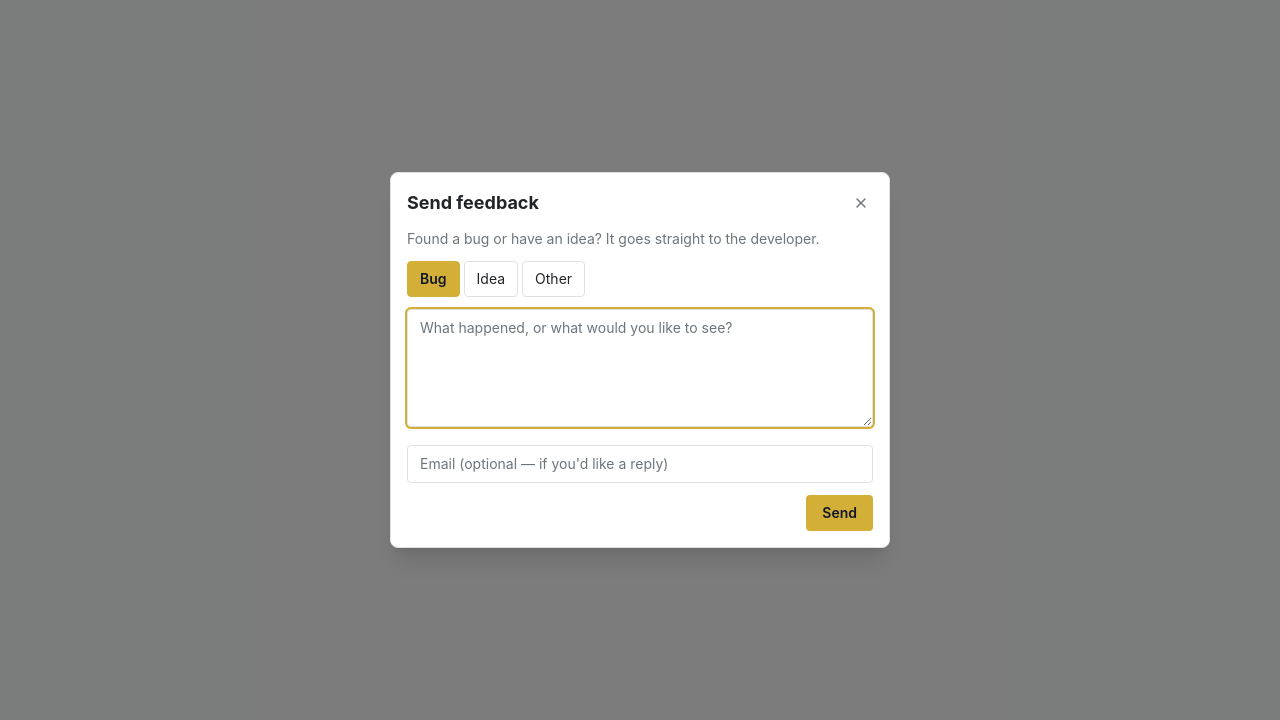
Test case: FeedbackModal › submits the selected type, trimmed message and email, then confirms
Click the button "Idea" at (491, 279), box [464,261,518,297]
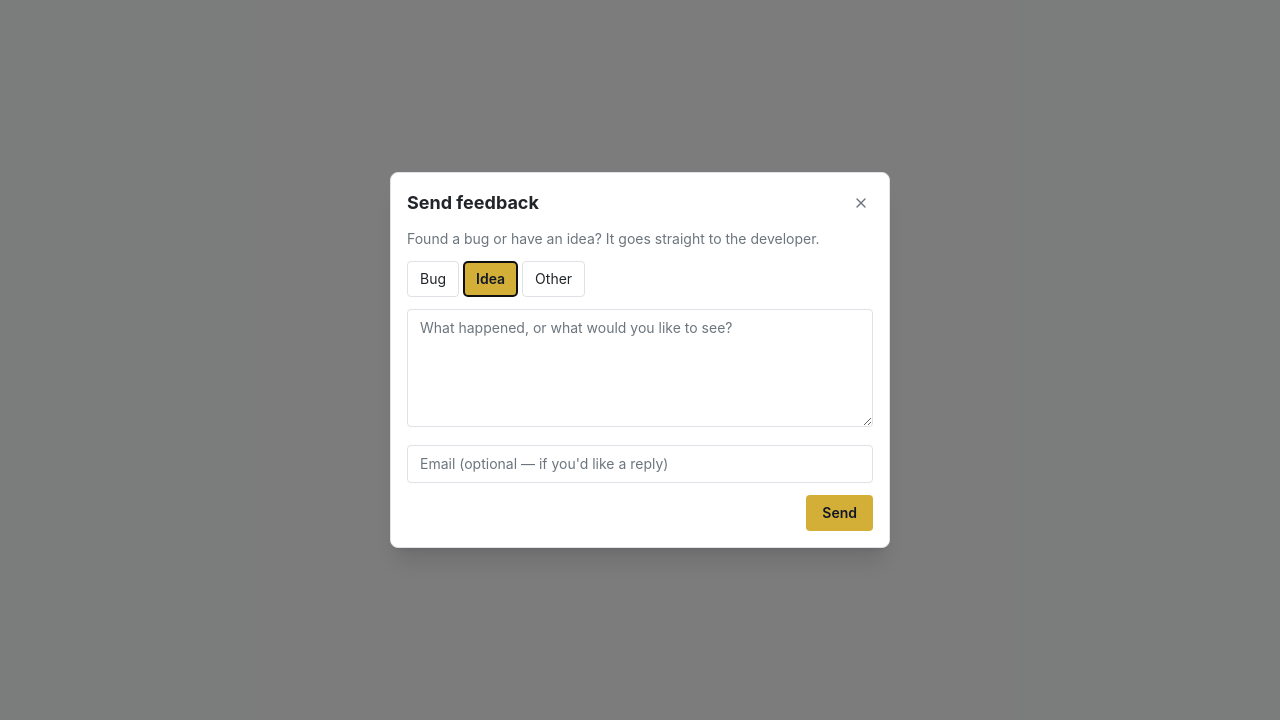
Type "  Support A4 label sheets  " into the text box named "Message" at (640, 368), box [407,309,873,427]
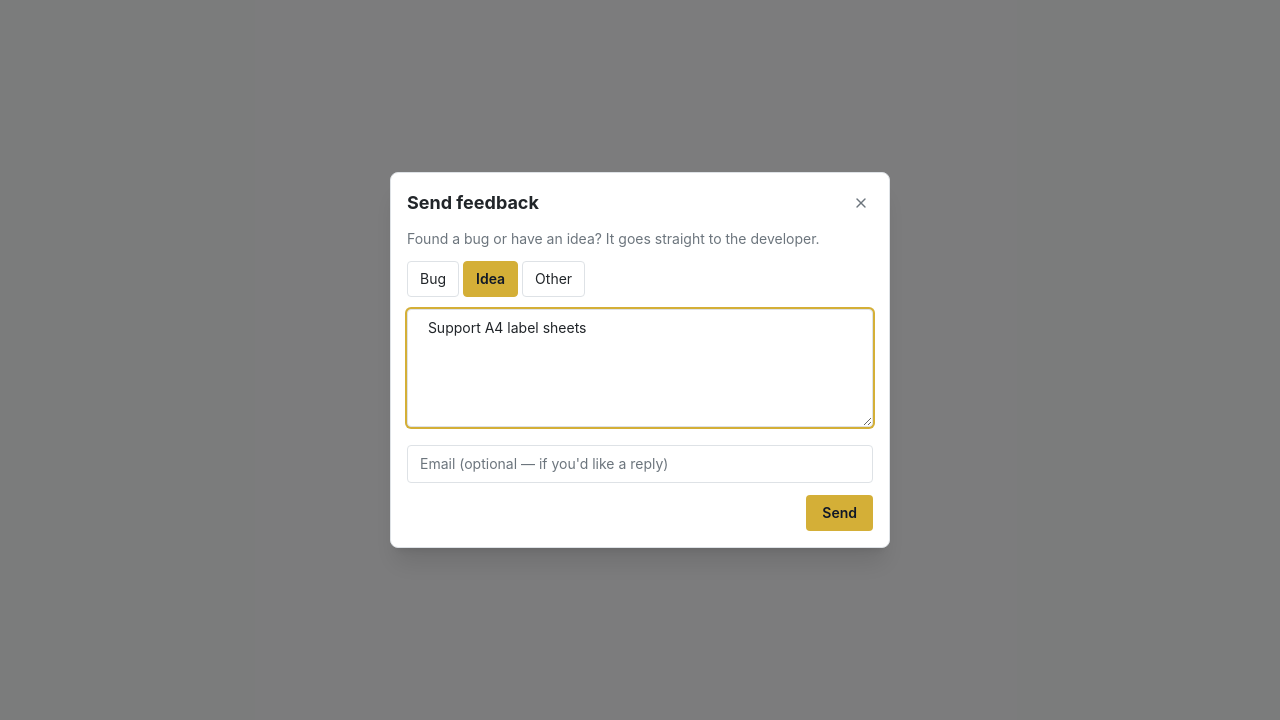
Type "me@example.com" into the field named "Email (optional)" at (640, 464), box [407,445,873,483]
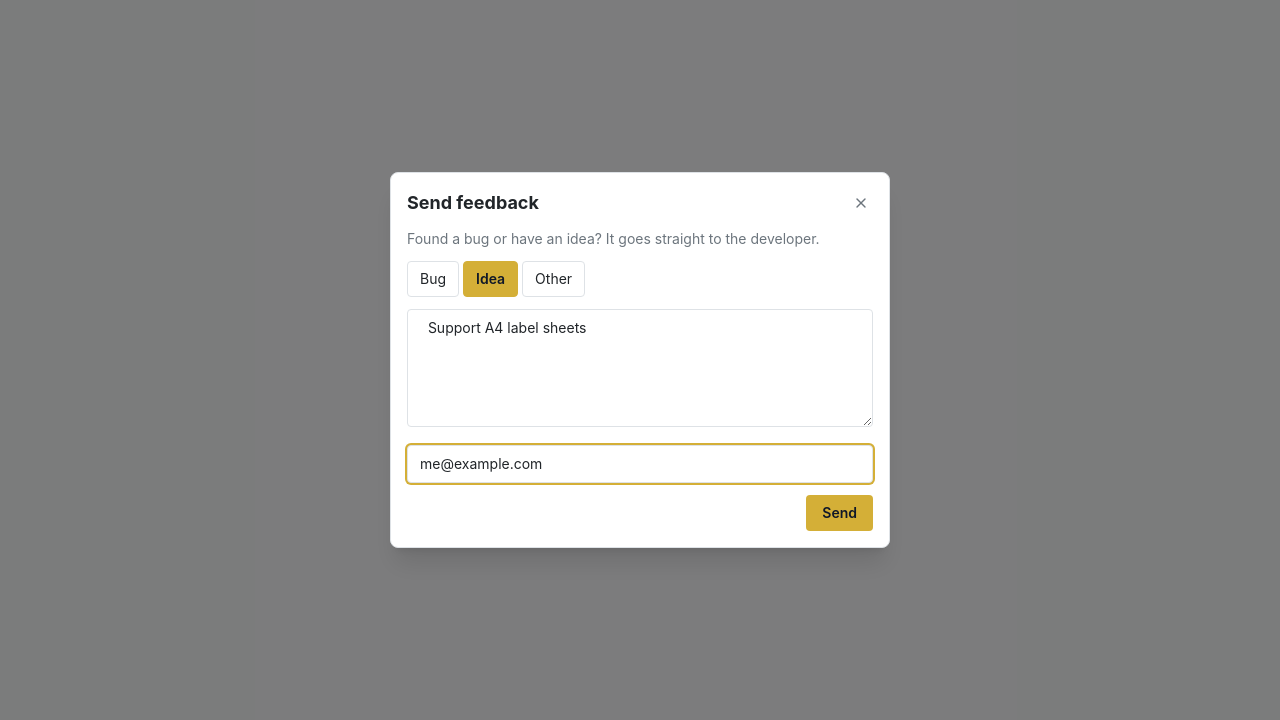
Click the button "Send" at (840, 513), box [806,495,873,531]
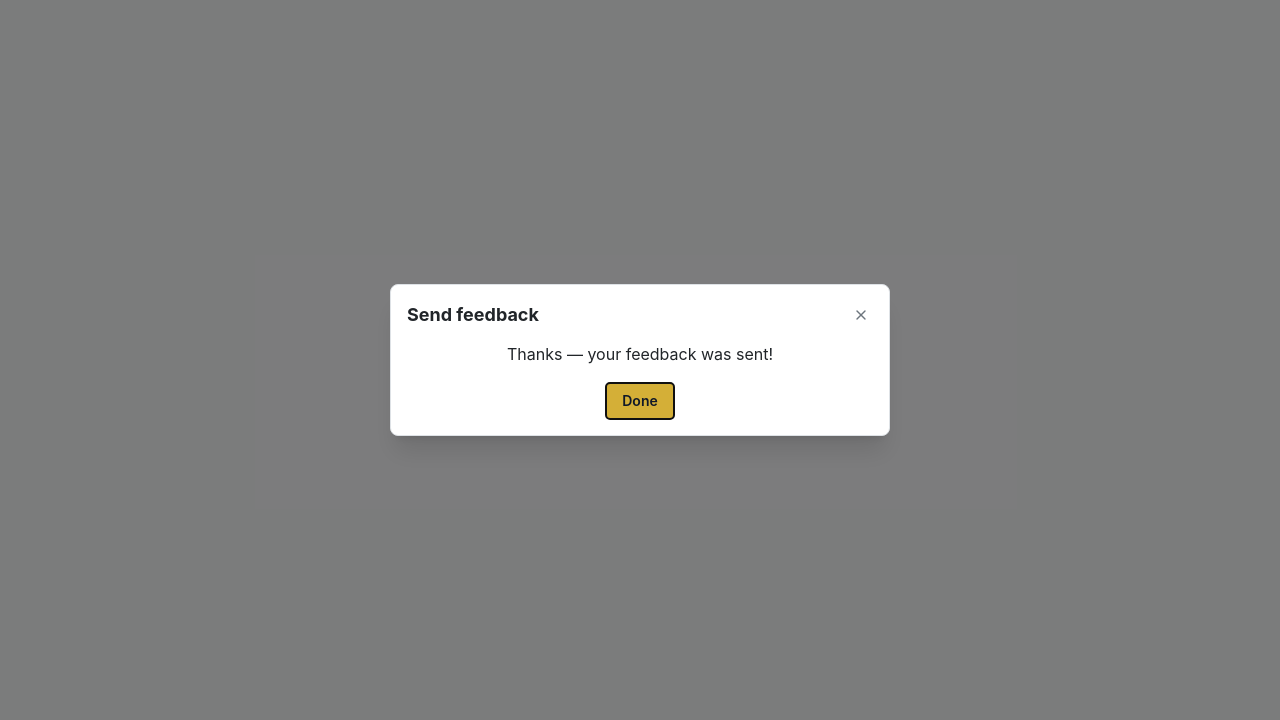
Now the text "Thanks — your feedback was sent!" is shown, box [507,344,773,364]
